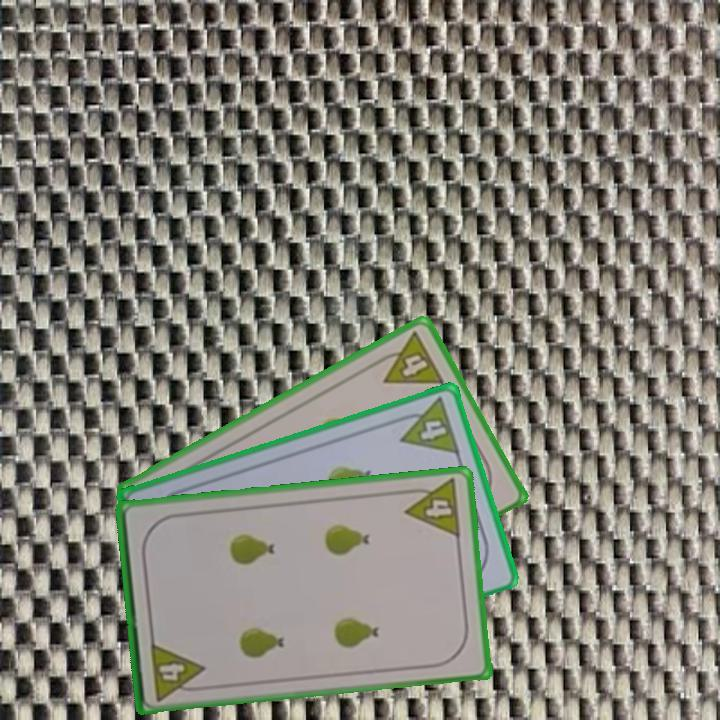4p: (370, 328, 448, 388), (391, 394, 463, 457), (400, 475, 464, 540), (147, 638, 208, 703)
